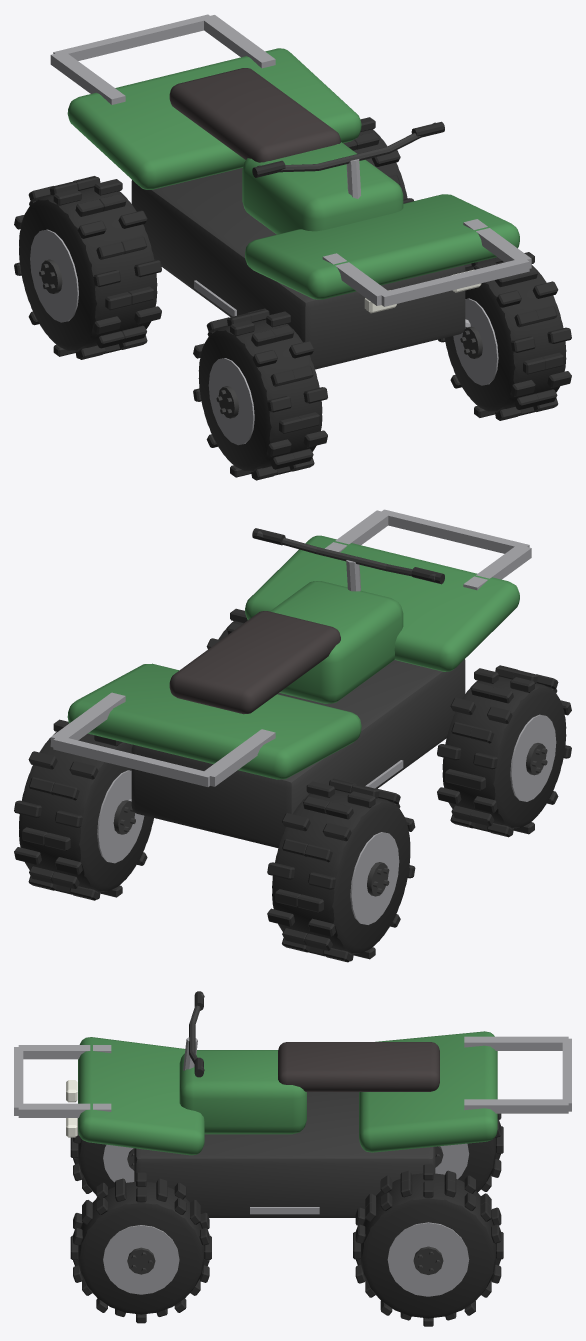
File: vehicle_atv.glb
3 views of the same model, one above another, from view 1: azimuth 30°, elevation 25°; view 2: azimuth 150°, elevation 25°; view 3: azimuth 270°, elevation 25° (orthographic). The views are drawn at different scales.
Visible parts, largest first — view 1: ATV, Wheel_RR, Wheel_FR, Wheel_FL, Steer, Wheel_RL; view 2: ATV, Wheel_RR, Wheel_FR, Wheel_RL, Steer; view 3: ATV, Wheel_RL, Wheel_FL, Wheel_FR, Wheel_RR, Steer.
Part boxes in pixels (bbox=[...]): ATV: bbox=[50, 14, 531, 369]; Wheel_RR: bbox=[14, 176, 161, 359]; Wheel_FR: bbox=[193, 308, 327, 480]; Wheel_FL: bbox=[438, 252, 571, 420]; Steer: bbox=[252, 121, 444, 198]; Wheel_RL: bbox=[343, 117, 413, 203]; ATV: bbox=[50, 509, 531, 847]; Wheel_RR: bbox=[267, 778, 415, 962]; Wheel_FR: bbox=[437, 665, 571, 837]; Wheel_RL: bbox=[14, 719, 153, 900]; Steer: bbox=[252, 528, 444, 591]; ATV: bbox=[14, 1031, 571, 1217]; Wheel_RL: bbox=[353, 1164, 503, 1326]; Wheel_FL: bbox=[70, 1172, 211, 1323]; Wheel_FR: bbox=[70, 1118, 134, 1198]; Wheel_RR: bbox=[435, 1113, 503, 1192]; Steer: bbox=[183, 991, 204, 1077].
Size of what is drawn, in the model's own units: 1.44 by 1.1 by 2.41.
